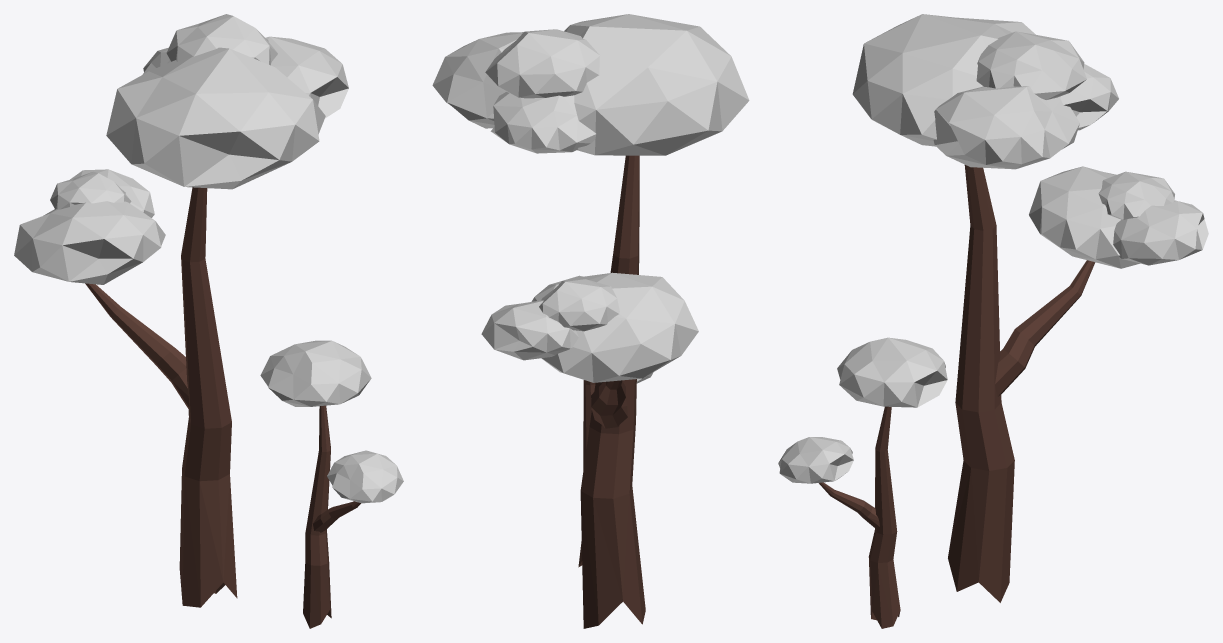
Rendered from trees03.fbx.
The picture shows the model from 3 angles, left to right: view 1: azimuth 30°, elevation 25°; view 2: azimuth 150°, elevation 25°; view 3: azimuth 270°, elevation 25°; orthographic projection. The views are drawn at different scales.
Parts seen in each view (by area): view 1: Icosphere.000; view 2: Icosphere.000; view 3: Icosphere.000.
Part boxes in pixels (x1,y1,x2,y2): Icosphere.000: (14,14,403,628); Icosphere.000: (432,14,749,628); Icosphere.000: (778,14,1208,628).
Size of the model in its own units: 4.66 by 9.19 by 6.23.
